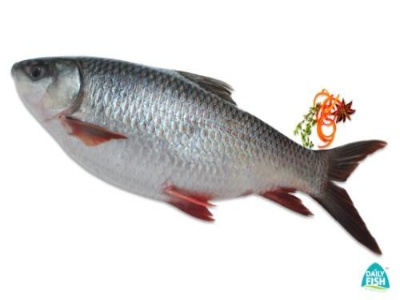rohu: (11, 53, 390, 260)
